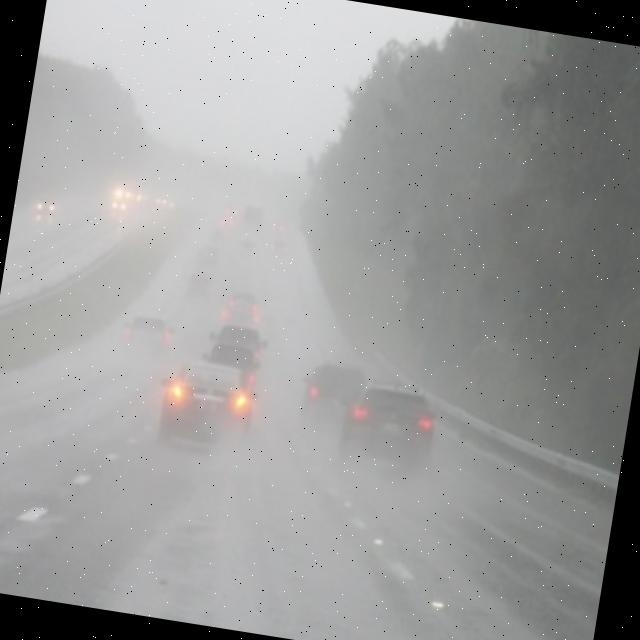car: (152, 356, 261, 454), (340, 378, 442, 471), (294, 357, 370, 428), (120, 316, 177, 356), (198, 344, 268, 372), (208, 322, 272, 351), (225, 288, 264, 310), (180, 271, 210, 295), (32, 194, 59, 218), (109, 196, 128, 212)
